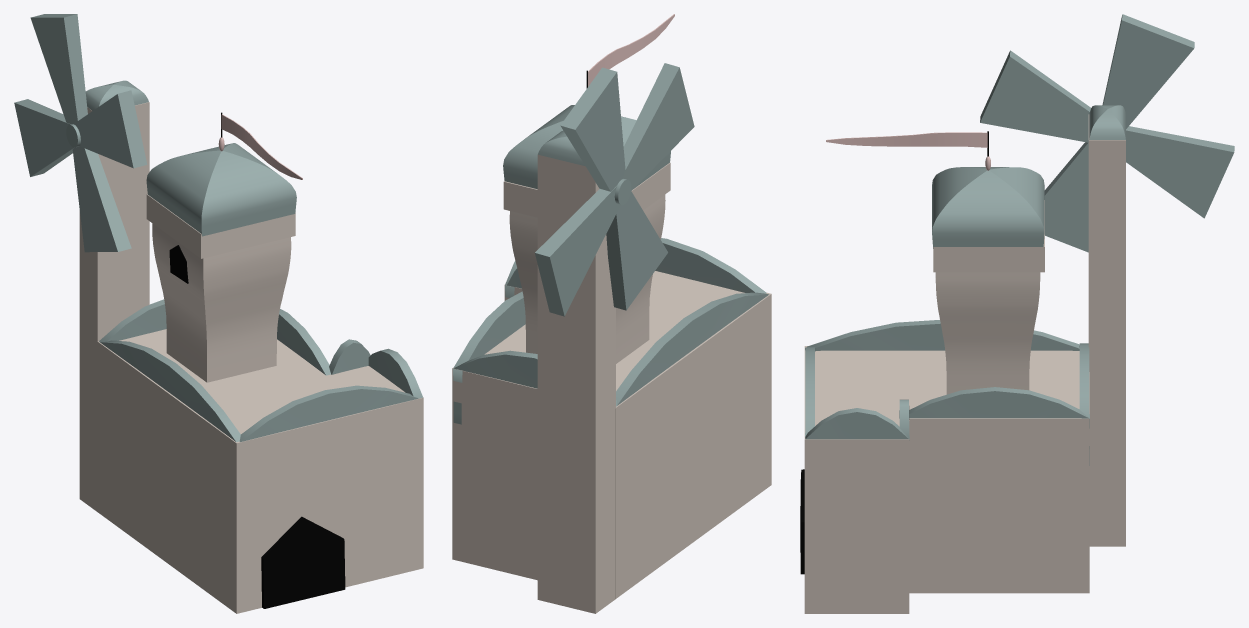
File: resource tower 0.fbx
The picture shows the model from 3 angles, left to right: view 1: azimuth 30°, elevation 25°; view 2: azimuth 150°, elevation 25°; view 3: azimuth 270°, elevation 25°; orthographic projection. The views are drawn at different scales.
Visible parts, largest first — view 1: polySurface35, polySurface34; view 2: polySurface35, polySurface34; view 3: polySurface35, polySurface34.
Part boxes in pixels (<box>): polySurface35: <box>66,80,423,613</box>; polySurface34: <box>14,14,147,252</box>; polySurface35: <box>452,14,771,613</box>; polySurface34: <box>535,63,694,316</box>; polySurface35: <box>800,105,1125,613</box>; polySurface34: <box>980,14,1234,252</box>.
Size of the model in its own units: 0.5097 by 1.16 by 0.9125.
